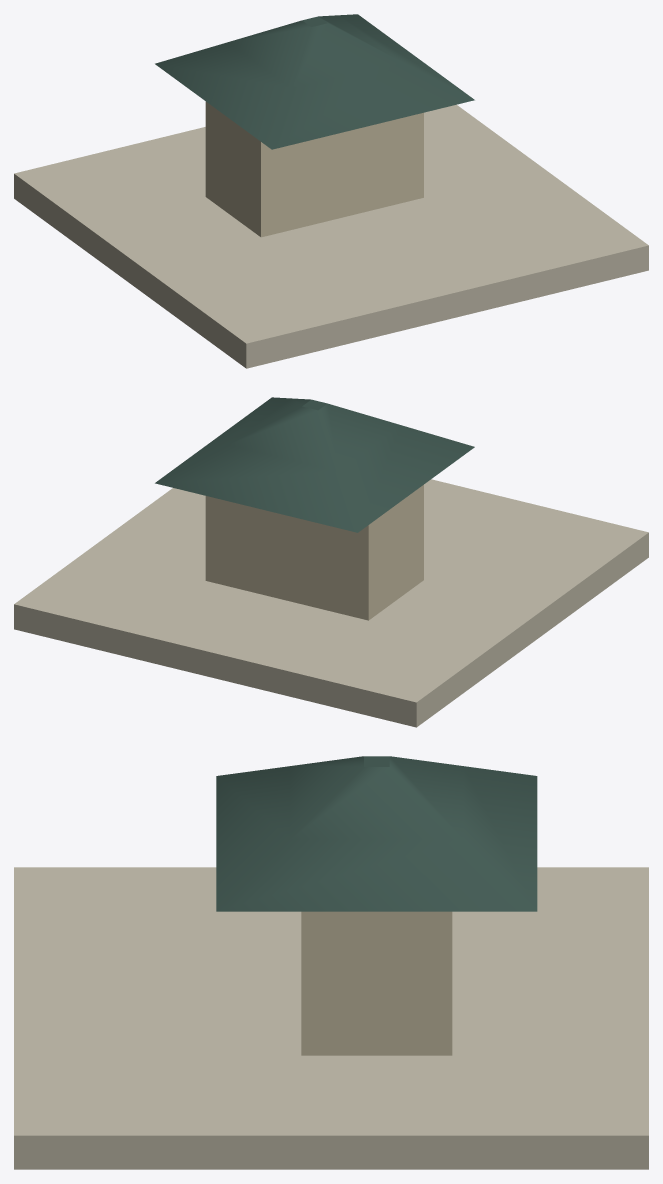
File: cang_jing_qu.glb
3 views of the same model, one above another, from view 1: azimuth 30°, elevation 25°; view 2: azimuth 150°, elevation 25°; view 3: azimuth 270°, elevation 25° (orthographic). The views are drawn at different scales.
Visible parts, largest first — view 1: _MeshInstance3D_154, _MeshInstance3D_159, _MeshInstance3D_155; view 2: _MeshInstance3D_154, _MeshInstance3D_159, _MeshInstance3D_155; view 3: _MeshInstance3D_154, _MeshInstance3D_159, _MeshInstance3D_155.
Part boxes in pixels (box(x1,y1,x2,y2)): _MeshInstance3D_154: box(14, 104, 648, 368); _MeshInstance3D_159: box(155, 14, 474, 149); _MeshInstance3D_155: box(205, 101, 423, 237); _MeshInstance3D_154: box(14, 479, 648, 727); _MeshInstance3D_159: box(155, 397, 474, 532); _MeshInstance3D_155: box(205, 485, 423, 620); _MeshInstance3D_154: box(14, 867, 648, 1169); _MeshInstance3D_159: box(216, 756, 537, 911); _MeshInstance3D_155: box(301, 911, 452, 1055).
Bounding box in the file's own units: 0.84 × 0.4 × 0.84.
